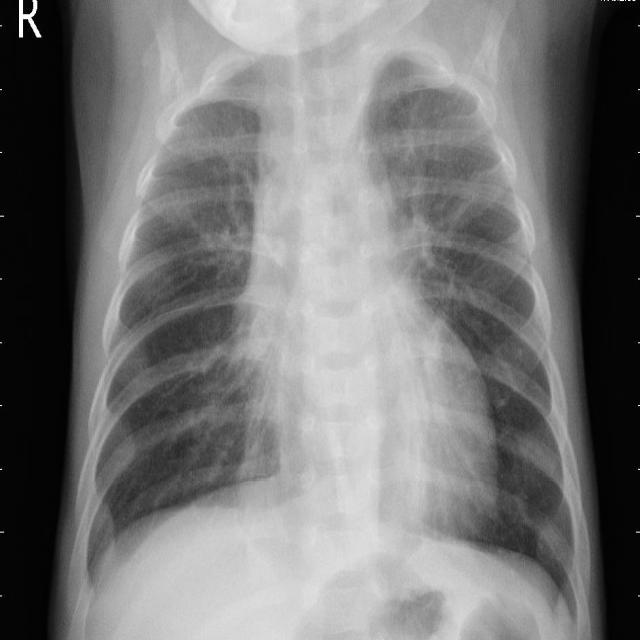low-pneumonia: (387, 135, 472, 314), (203, 125, 260, 276), (204, 398, 274, 490)
